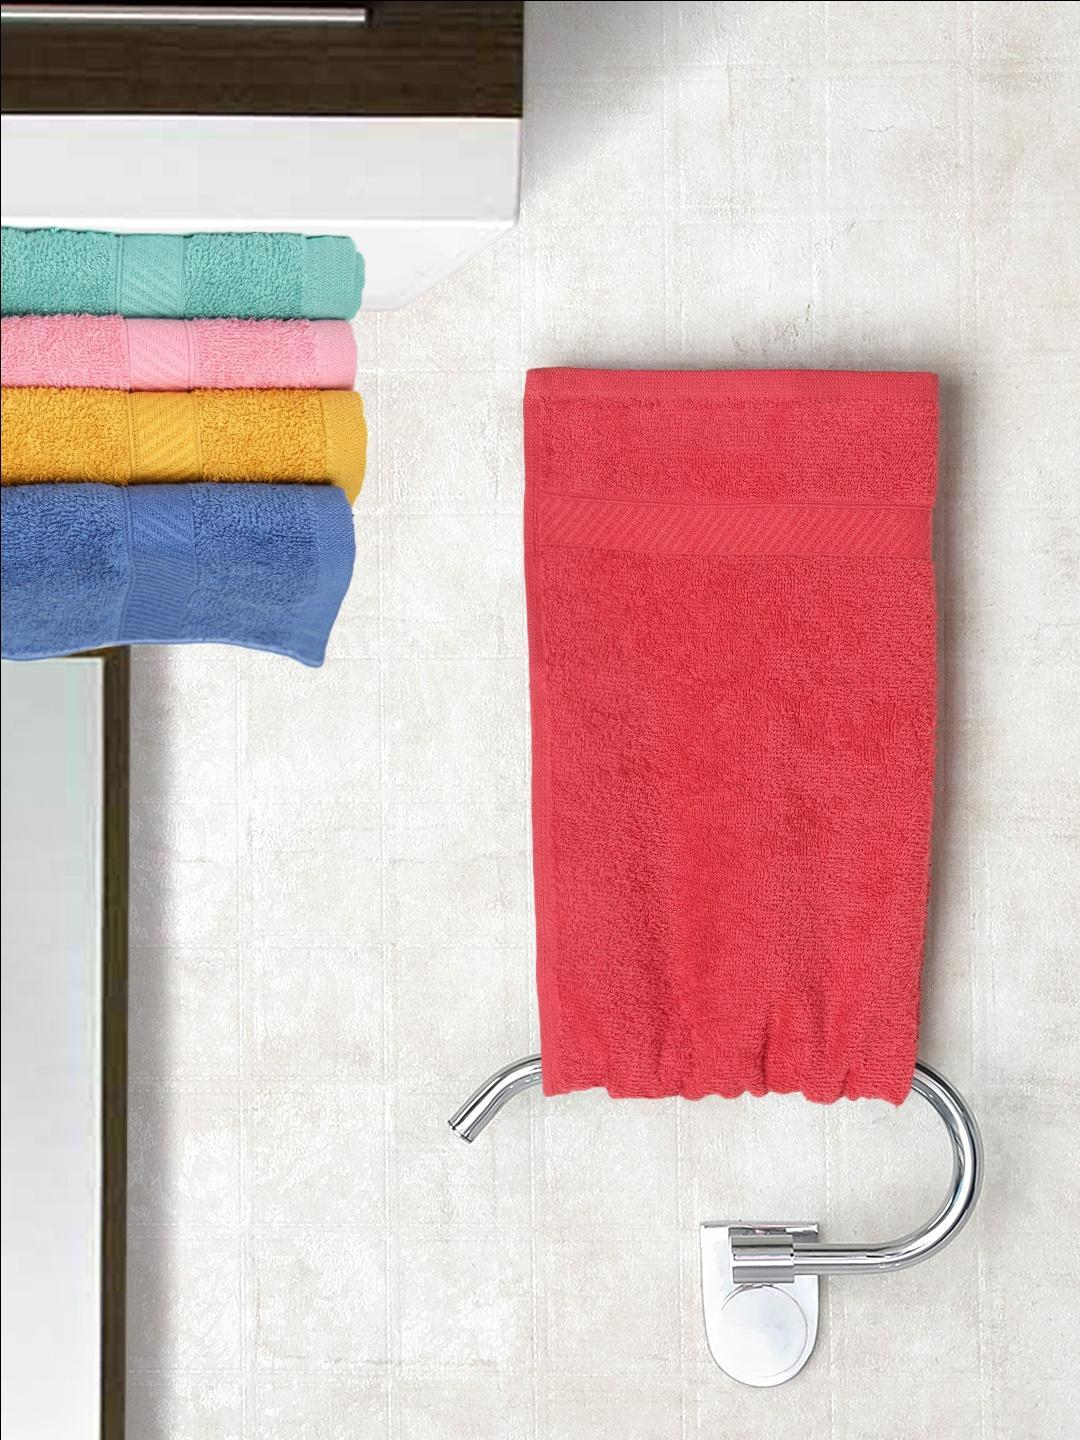towel: (513, 350, 970, 1127)
